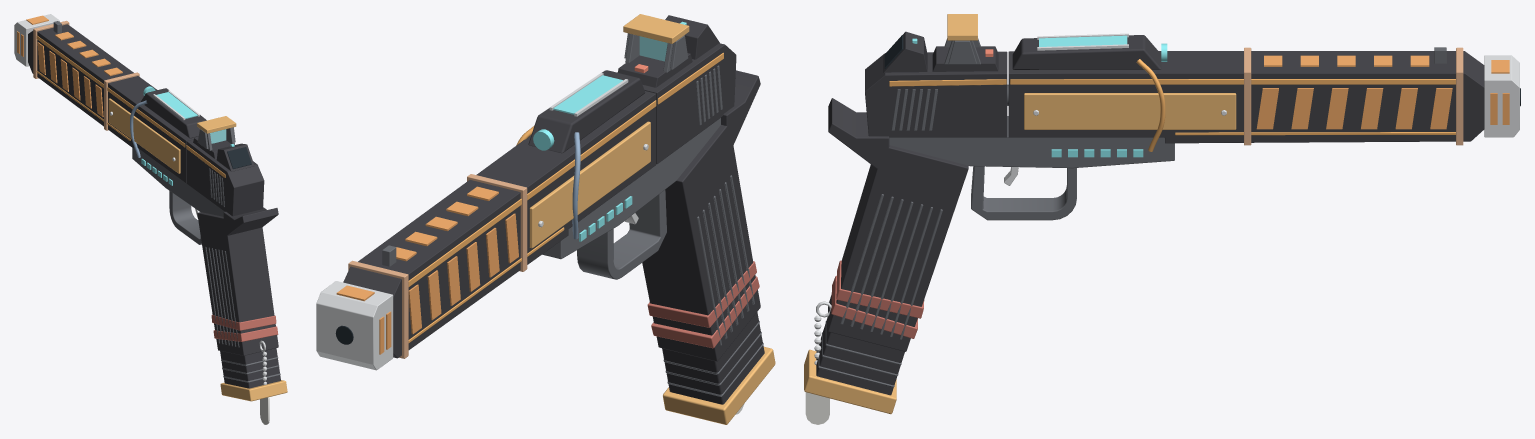
Rendered from smart_pistol_t4.glb.
3 views of the same model, side by side, from view 1: azimuth 30°, elevation 25°; view 2: azimuth 150°, elevation 25°; view 3: azimuth 270°, elevation 25° (orthographic). The views are drawn at different scales.
Parts seen in each view (by area): view 1: Frame, Shroud, Slide, Details, MagBase, Vents, TrackerScreen, TrackerGlass, CharmTag; view 2: Shroud, Frame, Slide, Details, MagBase, Vents, TrackerScreen, TrackerGlass, HoloGlass; view 3: Shroud, Frame, Slide, Details, Vents, MagBase, TrackerScreen, TrackerGlass, CharmTag.
Part boxes in pixels (x1,y1,x2,y2): Frame: (132,148,278,355); Shroud: (14,14,198,183); Slide: (186,116,264,216); Details: (108,98,278,341); MagBase: (220,348,287,401); Vents: (17,15,122,116); TrackerScreen: (141,88,206,138); TrackerGlass: (143,86,199,119); CharmTag: (260,351,269,424); Shroud: (316,91,656,370); Frame: (542,70,760,361); Slide: (617,14,736,164); Details: (516,121,759,348); MagBase: (662,312,775,424); Vents: (336,186,518,354); TrackerScreen: (528,70,645,153); TrackerGlass: (533,73,628,150); HoloGlass: (639,36,667,61); Shroud: (1007,47,1520,145); Frame: (816,98,1174,351); Slide: (865,14,1007,137); Details: (831,59,1236,338); Vents: (1256,55,1509,129); MagBase: (804,317,904,414); TrackerScreen: (1012,35,1161,69); TrackerGlass: (1037,33,1167,61); CharmTag: (805,315,829,424).
Bounding box in the file's own units: 0.0412 × 0.2594 × 0.4213.
